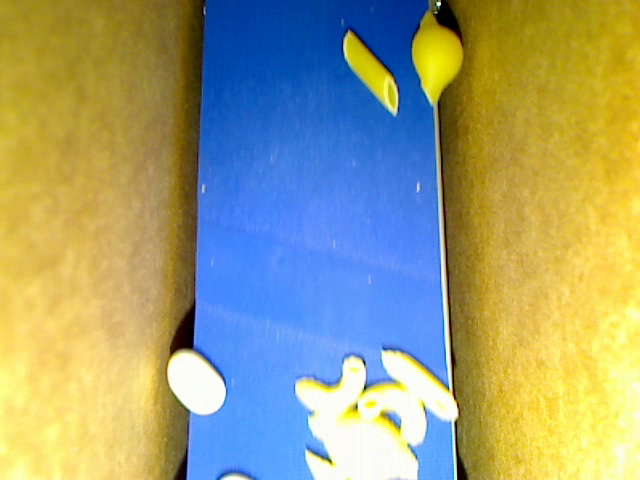elbow: (358, 382, 428, 447), (294, 354, 368, 414)
penne: (380, 349, 458, 421), (342, 29, 399, 115), (304, 448, 349, 479)
shell: (307, 411, 419, 478), (413, 9, 463, 107)
